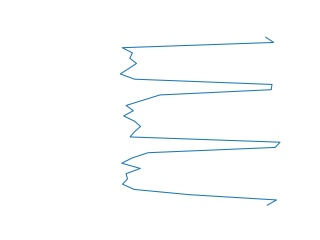majorRiverChannelBar: (117, 37, 283, 206)
